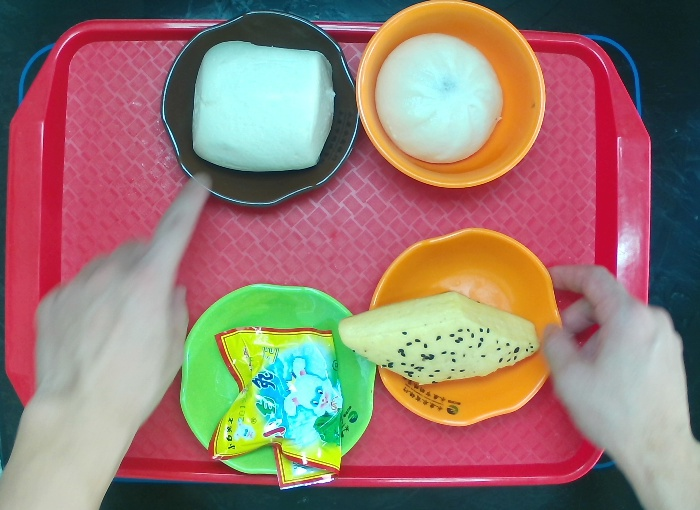YKMZ-Ju_Se_Ao_Bian_Wan: (363, 218, 585, 437)
YKMZ-Ju_Se_Yuan_Wan: (344, 1, 553, 204)
YKMZ-Ka_Fei_Ao_Bian_Wan: (152, 1, 374, 219)
YKMZ-Lv_Se_Ao_Bian_Wan: (158, 276, 380, 495)
